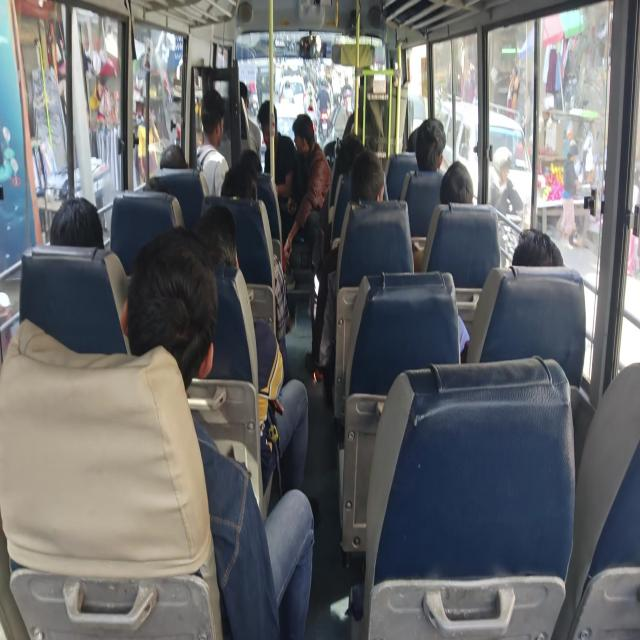person: (120, 226, 315, 638), (196, 203, 309, 496), (306, 149, 386, 382), (459, 227, 564, 362), (282, 113, 332, 271), (412, 161, 474, 271), (256, 99, 296, 201), (196, 88, 229, 196), (50, 196, 104, 249), (489, 145, 523, 216), (558, 141, 580, 244), (511, 228, 564, 266), (136, 102, 160, 183), (239, 81, 261, 164), (415, 118, 446, 172), (439, 160, 474, 204), (160, 144, 188, 170)
